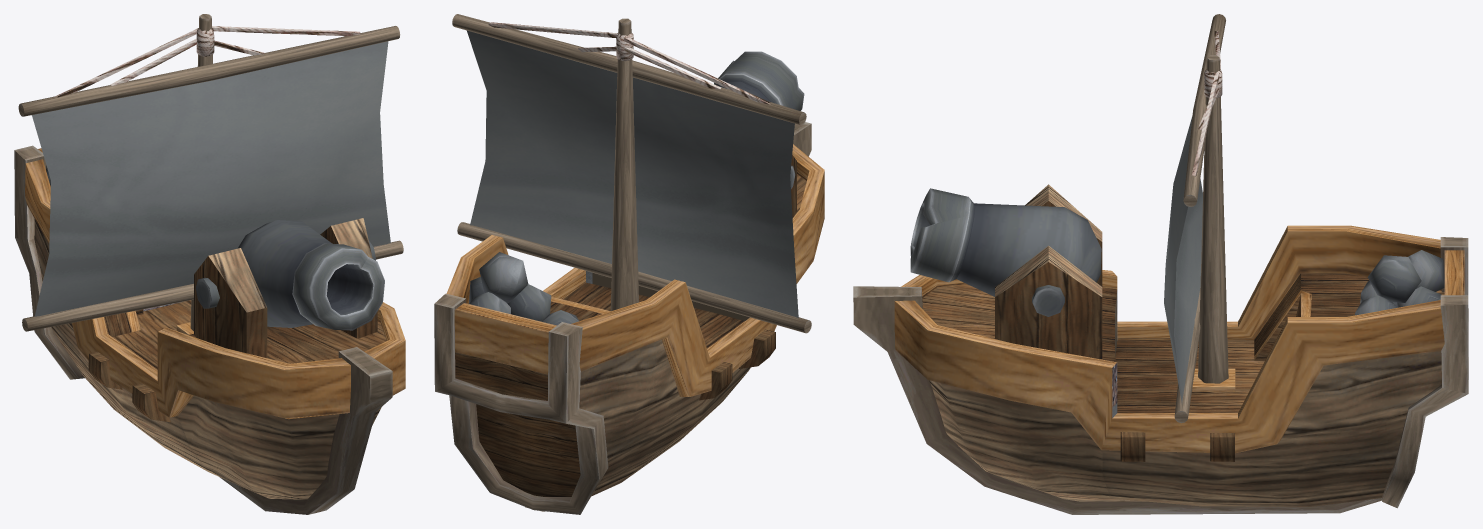
File: CannonShip.fbx
3 renders of one model, left to right at view 1: azimuth 30°, elevation 25°; view 2: azimuth 150°, elevation 25°; view 3: azimuth 270°, elevation 25°, orthographic. The views are drawn at different scales.
Visible parts, largest first — view 1: CannonShip, CannonPitch, CannonYaw; view 2: CannonShip, CannonPitch; view 3: CannonShip, CannonPitch, CannonYaw.
Boxes of the visible parts, x1,y1,x2,y2 form: CannonShip: (14, 14, 405, 514); CannonPitch: (195, 220, 384, 330); CannonYaw: (194, 218, 377, 357); CannonShip: (434, 14, 824, 514); CannonPitch: (714, 51, 804, 188); CannonShip: (853, 14, 1468, 514); CannonPitch: (910, 188, 1101, 316); CannonYaw: (995, 184, 1102, 359).
Size of the model in its own units: 519 by 603 by 742.
